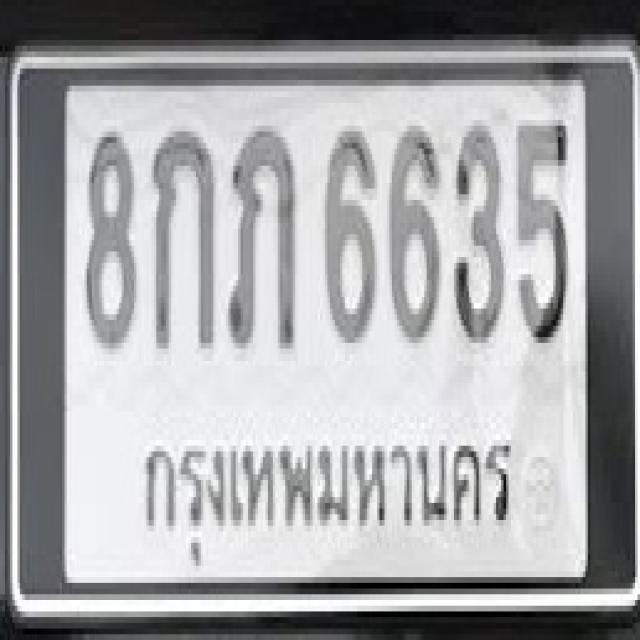license_plate: (6, 42, 640, 626)
